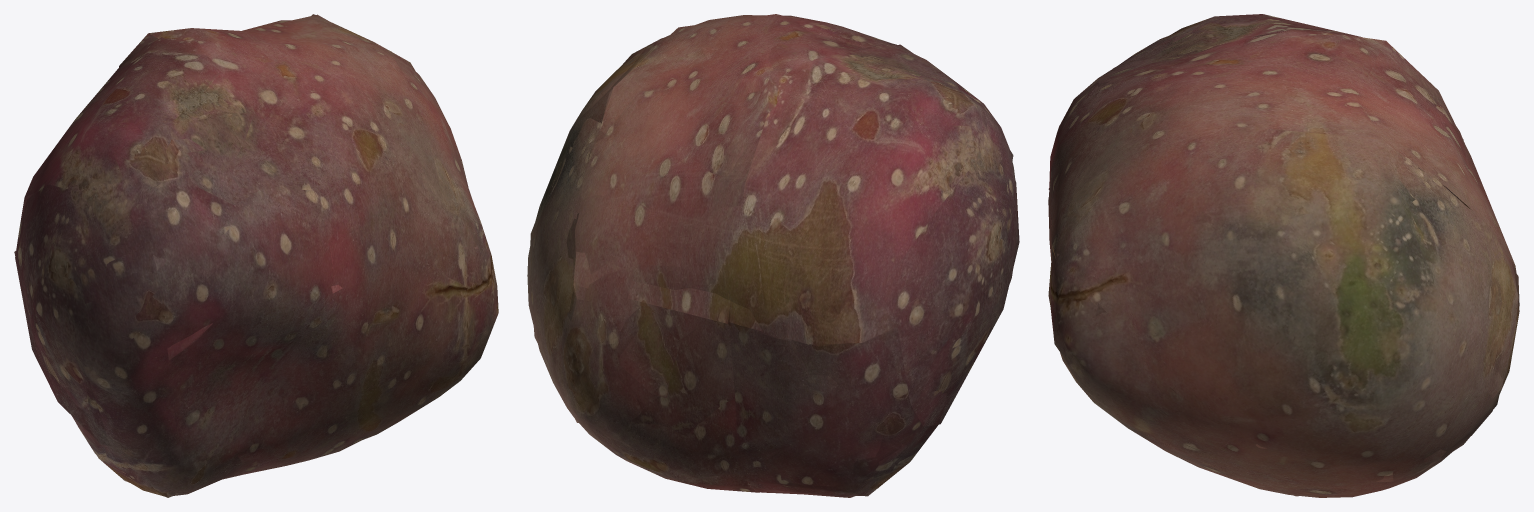
The model's file is sweet-potato.glb.
The picture shows the model from 3 angles, left to right: view 1: azimuth 30°, elevation 25°; view 2: azimuth 150°, elevation 25°; view 3: azimuth 270°, elevation 25°; orthographic projection. The views are drawn at different scales.
Visible parts, largest first — view 1: sweet-potato-fine, sweet-potato-coarse; view 2: sweet-potato-coarse, sweet-potato-fine; view 3: sweet-potato-fine, sweet-potato-coarse.
Boxes of the visible parts, x1,y1,x2,y2 form: sweet-potato-fine: (22, 20, 498, 496); sweet-potato-coarse: (14, 14, 478, 497); sweet-potato-coarse: (530, 14, 1019, 496); sweet-potato-fine: (527, 15, 1017, 497); sweet-potato-fine: (1048, 21, 1519, 497); sweet-potato-coarse: (1048, 14, 1519, 496).
Bounding box in the file's own units: 1 × 1 × 1.
Materials: 1 (1 with a texture image).
